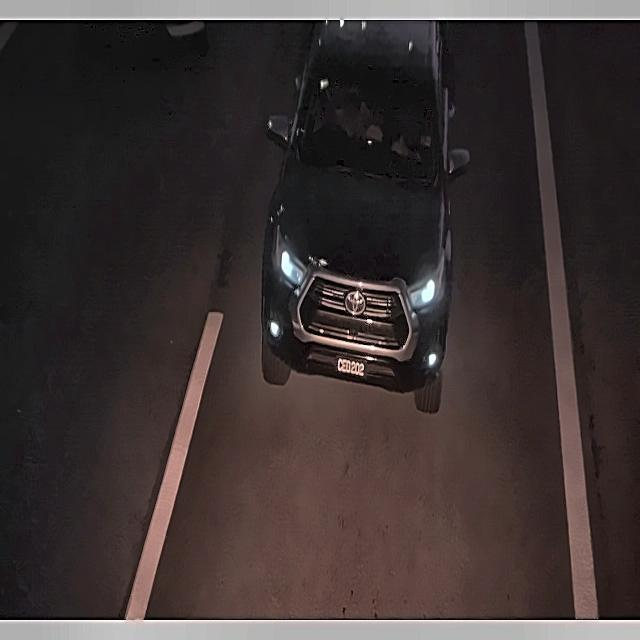car: (334, 353, 370, 383)
